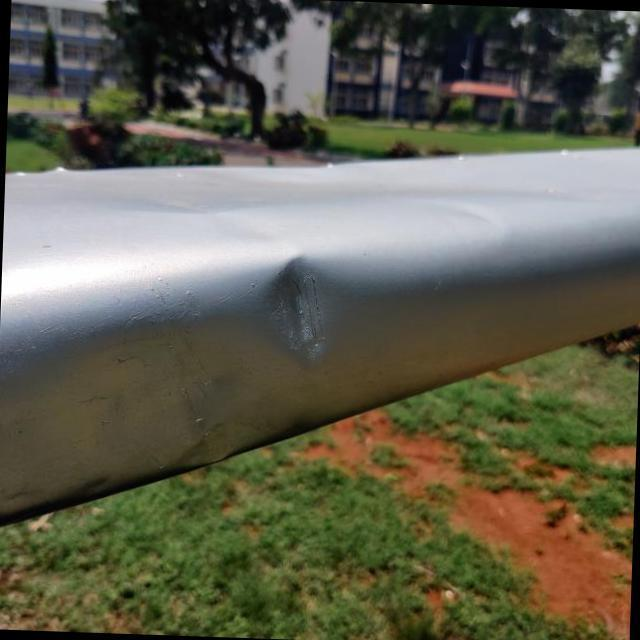Dent: (238, 243, 364, 394)
